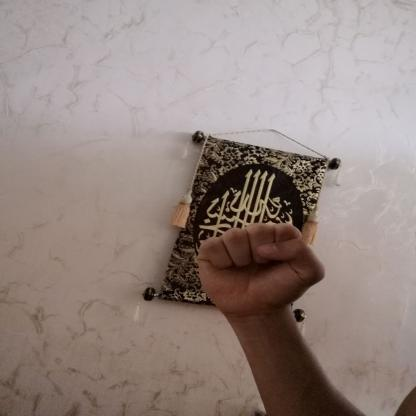SAD: (179, 212, 335, 324)
